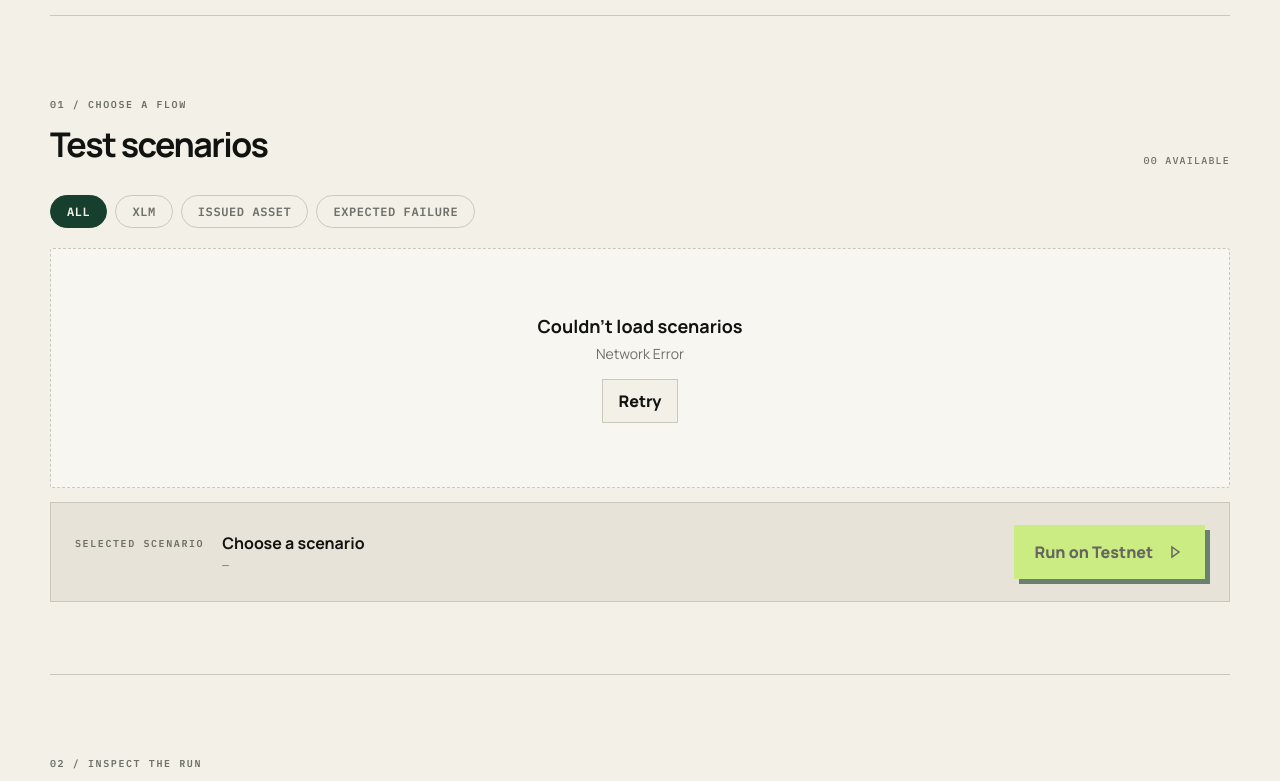
Test case: Dashboard component catalogue loading and retry › handles initial failure and repeated failure
The image size is (1280, 781).
(page scrolled)
Expected: the text "Couldn't load scenarios" is shown, [538,314,742,338]
Expected: the text "Network Error" is shown, [596,344,684,362]
Click the button "Retry".
click(640, 400)  # box [602,378,678,422]
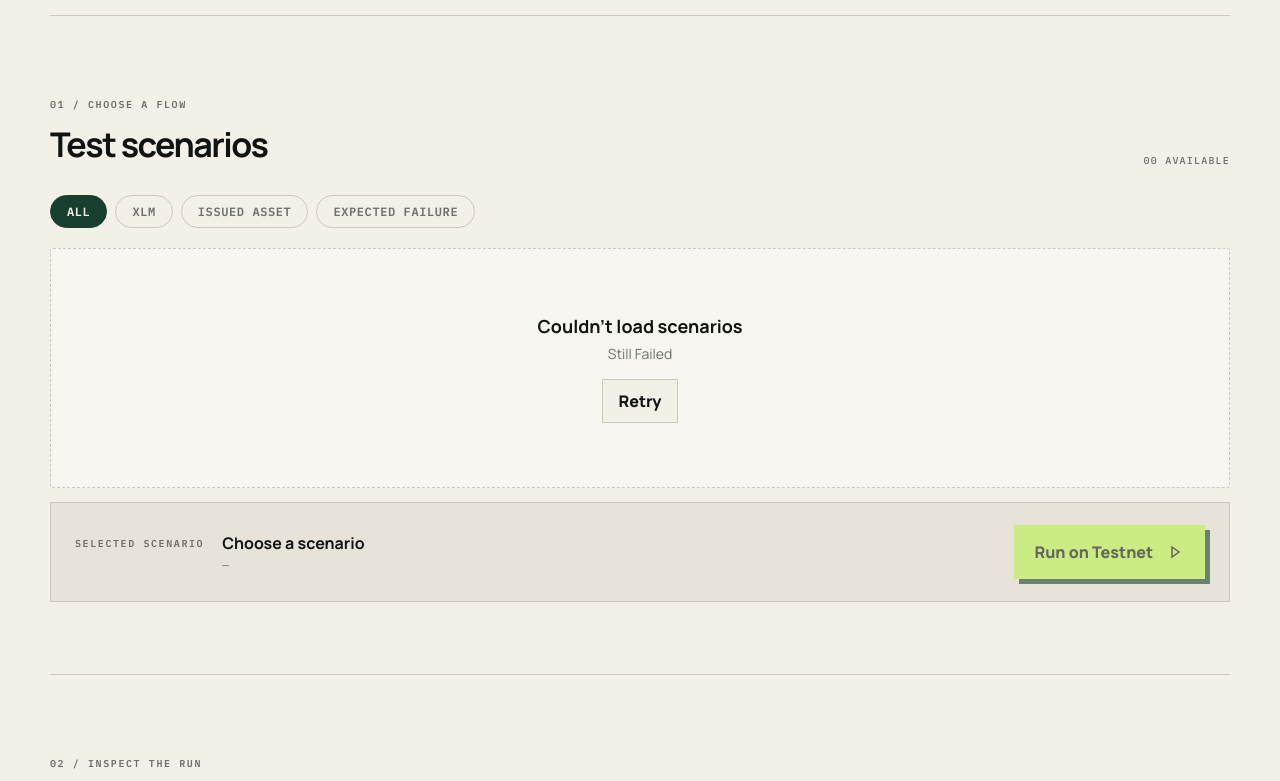
Result: the text "Still Failed" is shown at [608,344,672,362]
